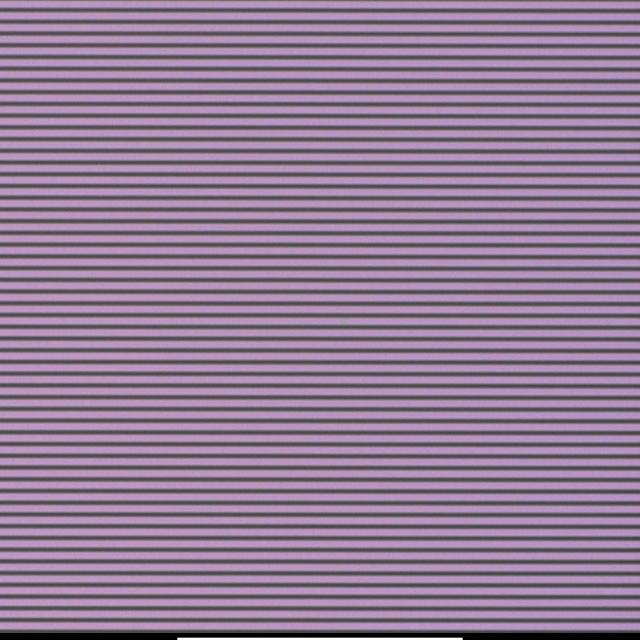nonvisual: (339, 315, 353, 329)
